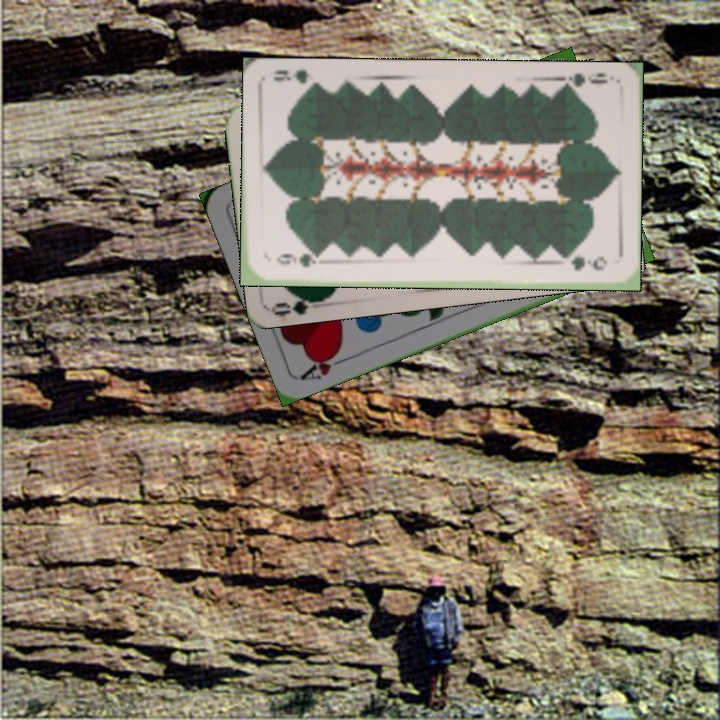G9: (557, 68, 611, 95), (272, 251, 324, 270)
GO: (271, 289, 330, 318)
HA: (297, 345, 354, 383)
